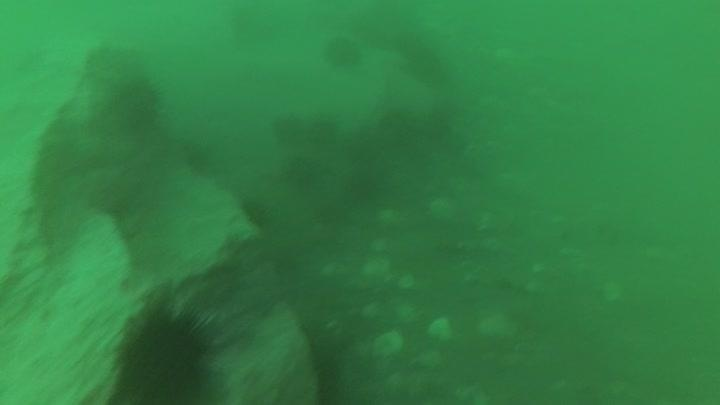echinus: (111, 300, 221, 404), (109, 74, 165, 134), (321, 33, 365, 72), (269, 112, 308, 149)
